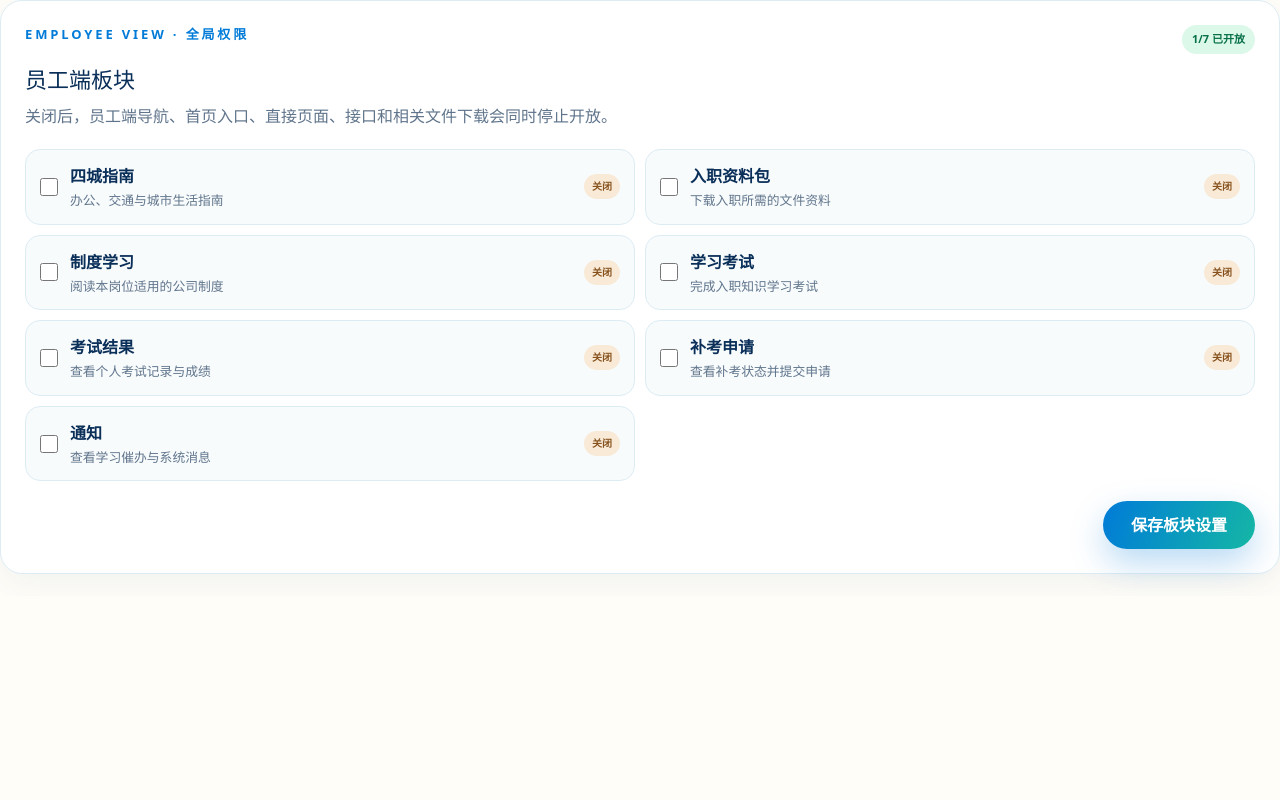
Test case: ModuleSettings › keeps the unsaved selection visible and reports transport failures
The image size is (1280, 800).
Click the checkbox labelled "制度学习 阅读本岗位适用的公司制度 关闭".
click(49, 272)  # box [40,263,58,281]
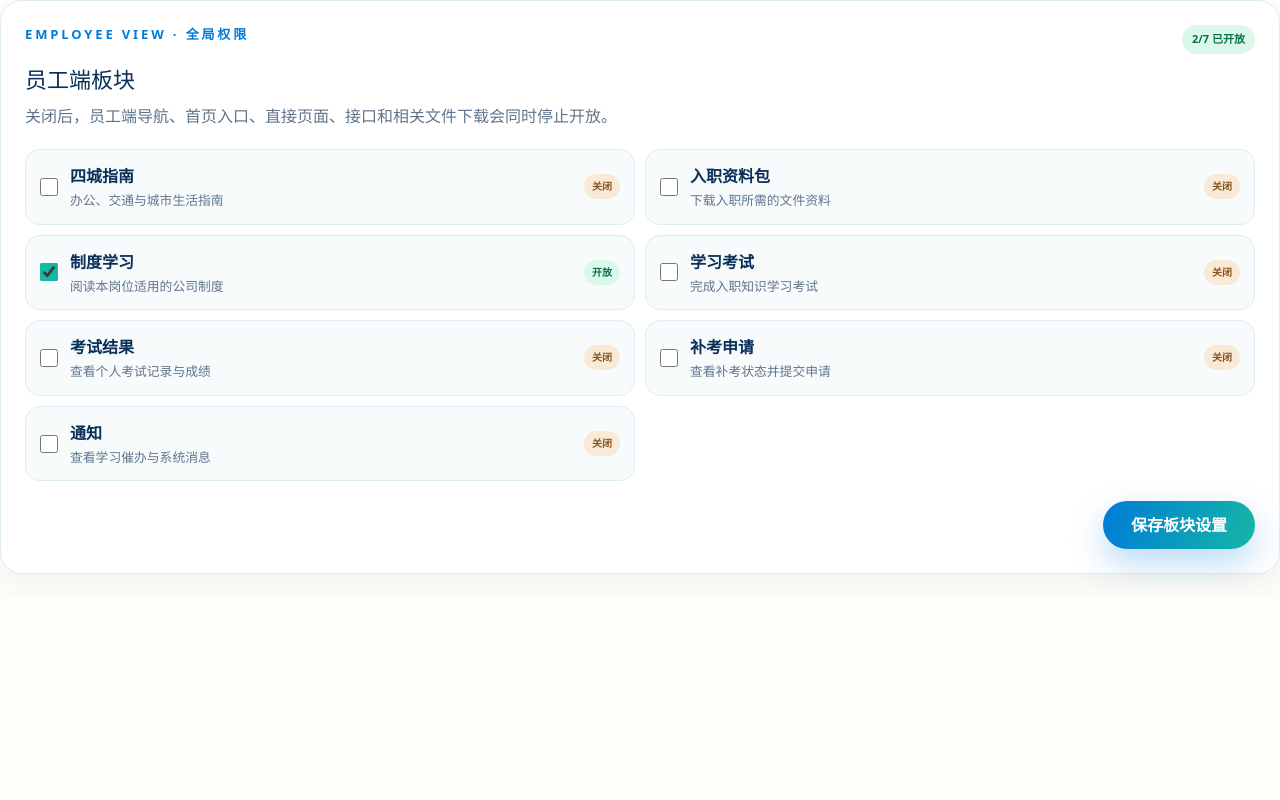
Click the button "保存板块设置".
click(1179, 525)  # box [1103,501,1255,549]
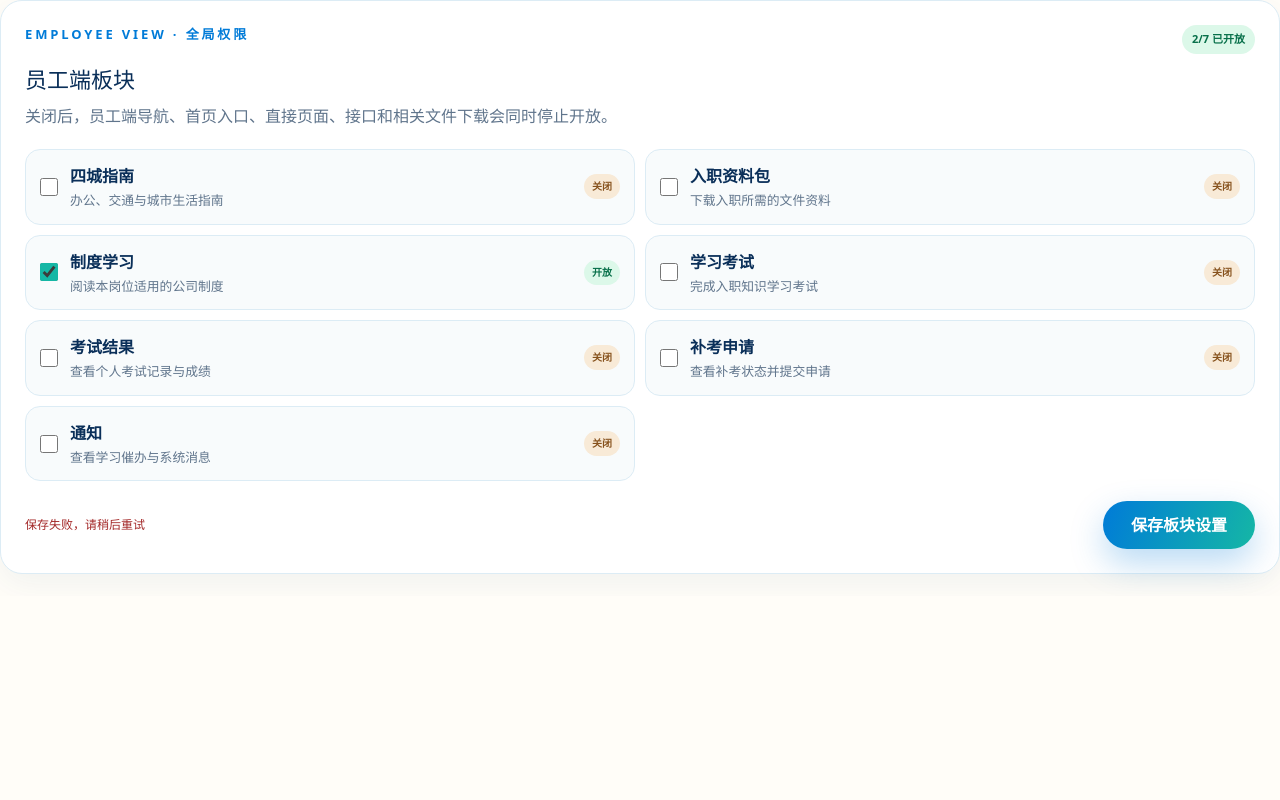
expect the checkbox labelled "制度学习 阅读本岗位适用的公司制度 开放" is checked: met, box [40,263,58,281]
expect the message reads "保存失败，请稍后重试": met, box [25,516,145,533]
